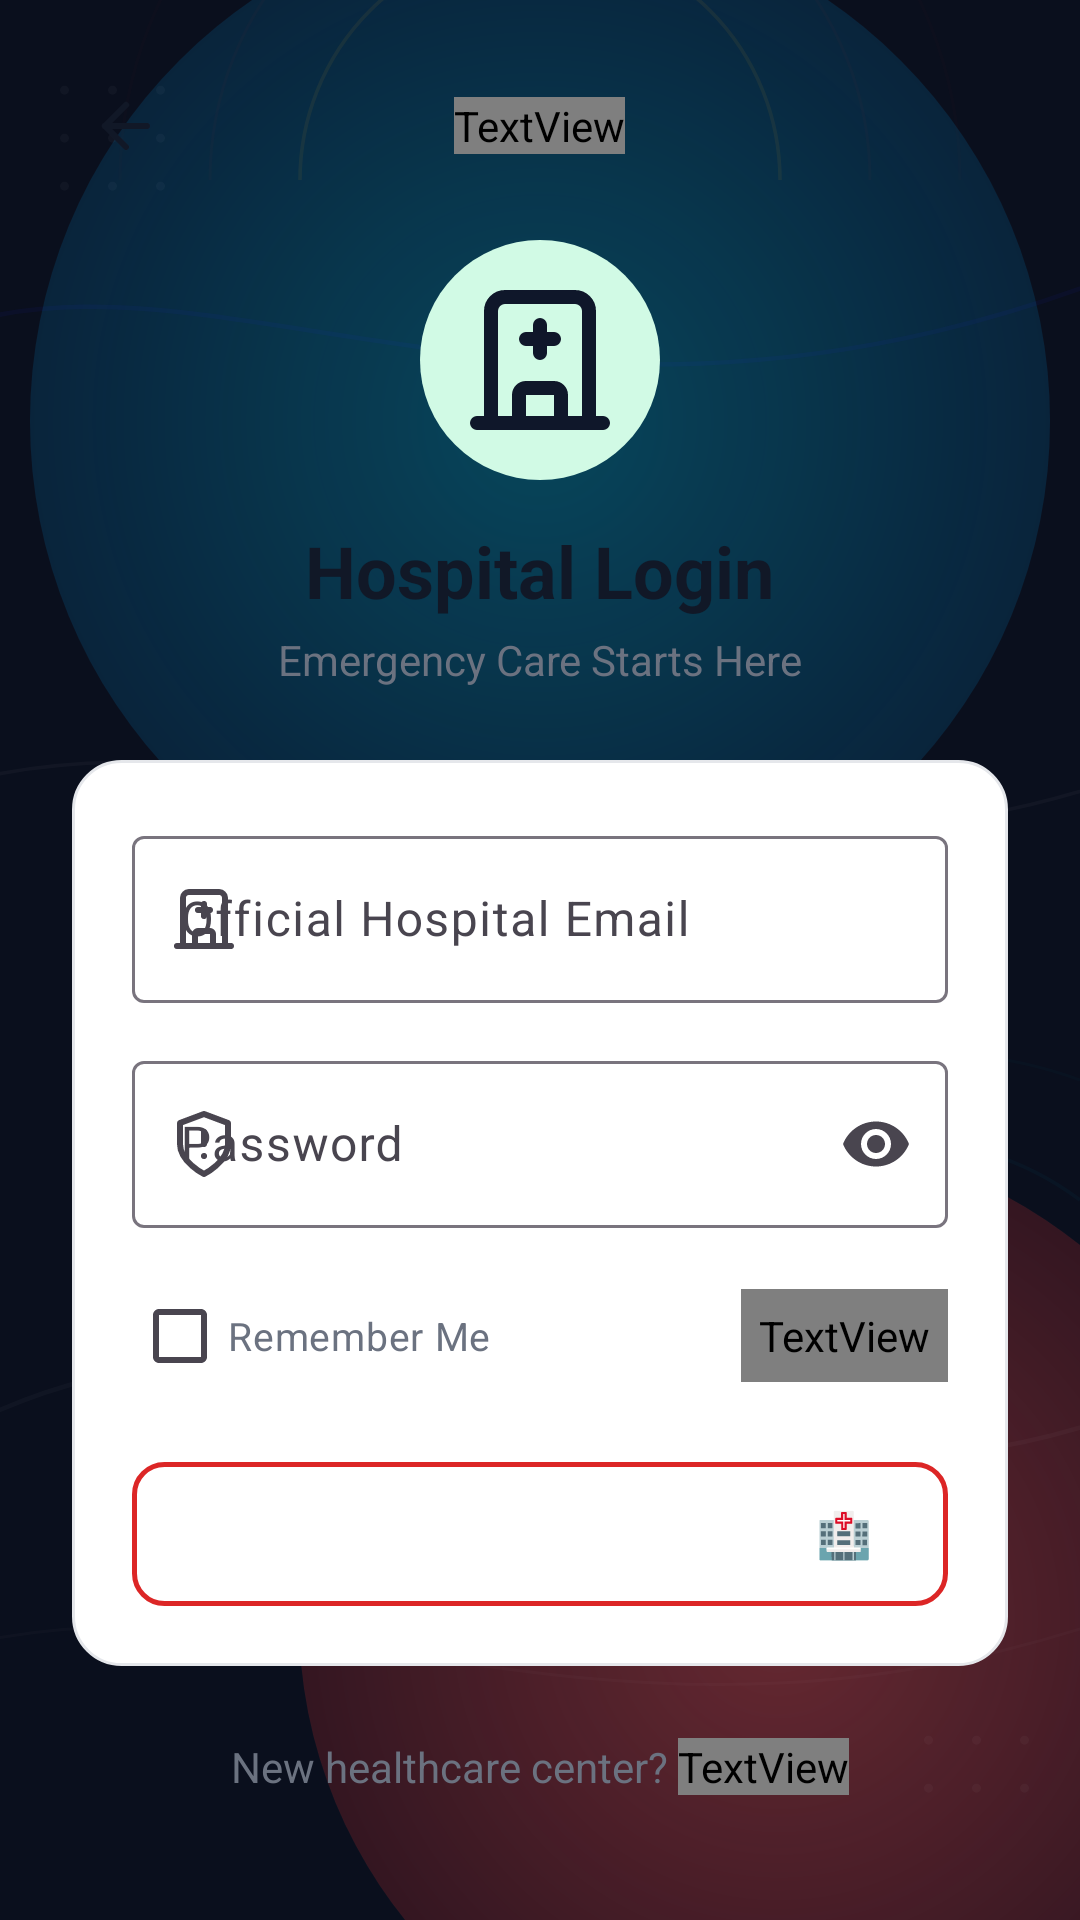

Where to tap for icons on this 1080*1920 app screen, as point (x, y):
Back: point (126, 126)
